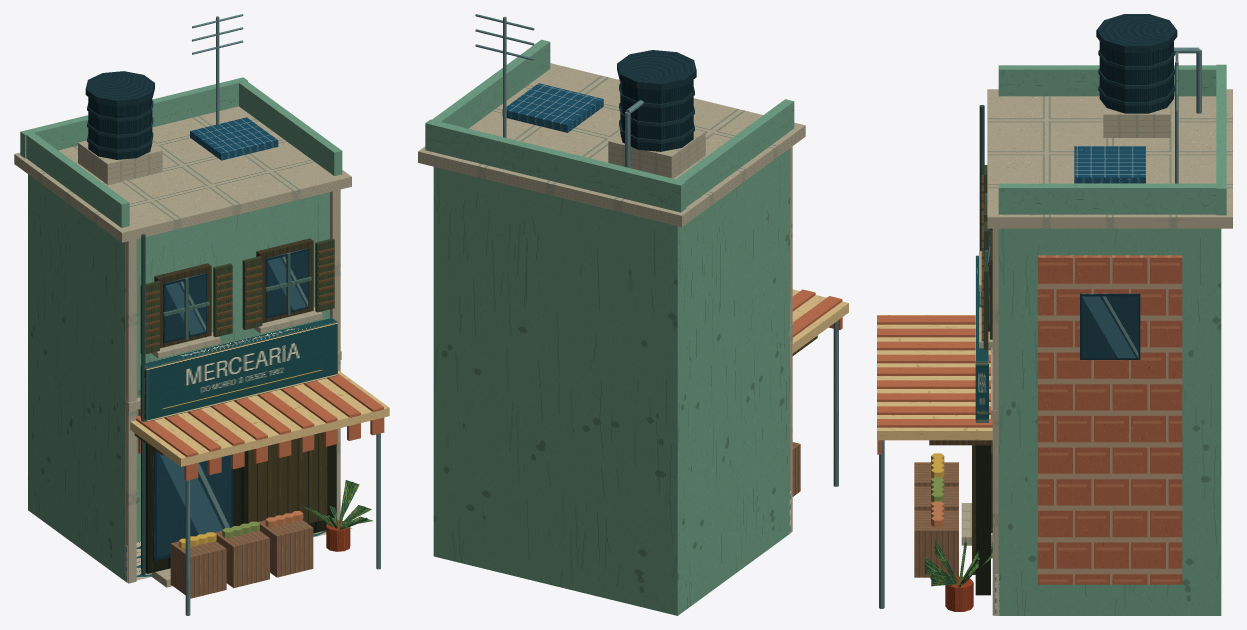
File: corner-mercearia.glb
3 views of the same model, side by side, from view 1: azimuth 30°, elevation 25°; view 2: azimuth 150°, elevation 25°; view 3: azimuth 270°, elevation 25° (orthographic). The views are drawn at different scales.
Parts seen in each view (by area): view 1: corner-mercearia; view 2: corner-mercearia; view 3: corner-mercearia.
Part boxes in pixels (x1,y1,x2,y2): corner-mercearia: (14, 14, 389, 615); corner-mercearia: (418, 14, 848, 615); corner-mercearia: (877, 14, 1232, 615).
Size of the model in its own units: 3.02 by 5.65 by 3.43.
Materials: 1 (1 with a texture image).
